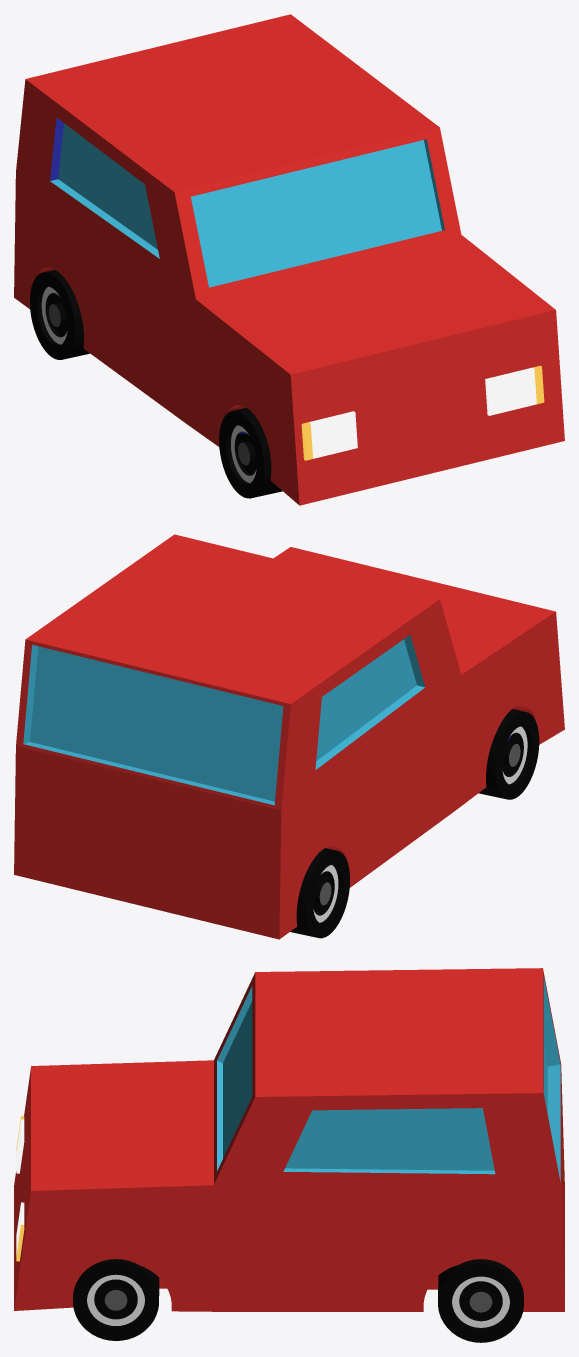
Rendered from Car04.glb.
3 views of the same model, one above another, from view 1: azimuth 30°, elevation 25°; view 2: azimuth 150°, elevation 25°; view 3: azimuth 270°, elevation 25° (orthographic). The views are drawn at different scales.
Visible parts, largest first — view 1: Cube.011; view 2: Cube.011; view 3: Cube.011.
Boxes of the visible parts, <box> form: Cube.011: <box>14,14,564,505</box>; Cube.011: <box>14,534,564,939</box>; Cube.011: <box>14,968,564,1342</box>.
Bounding box in the file's own units: 2.17 × 1.86 × 3.78.
